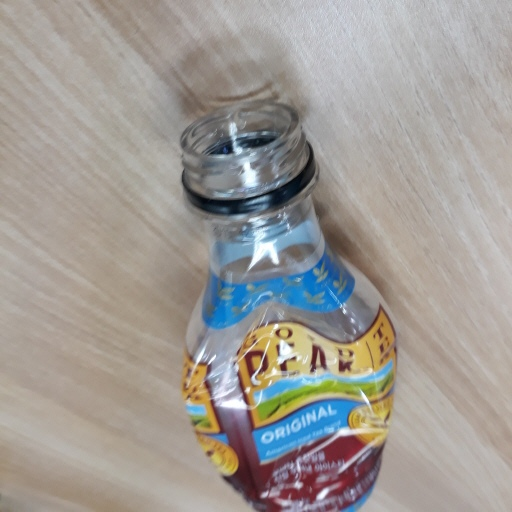Plastic_0: (173, 101, 402, 512)
